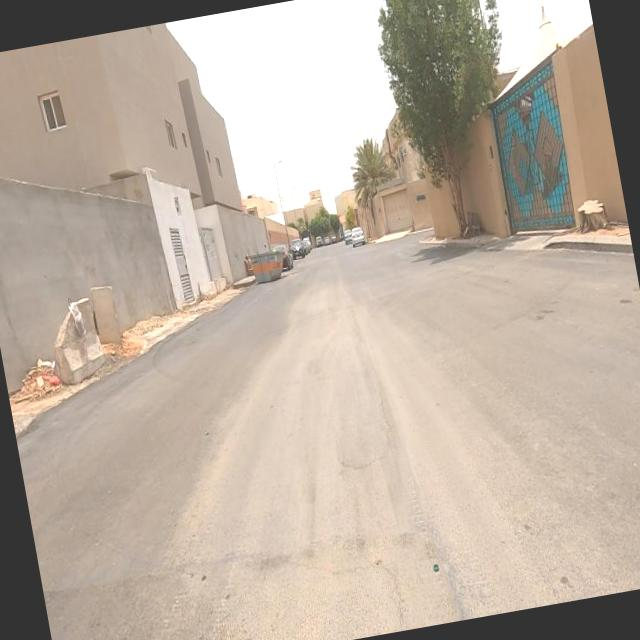debris: (7, 316, 84, 432), (44, 260, 110, 372)
